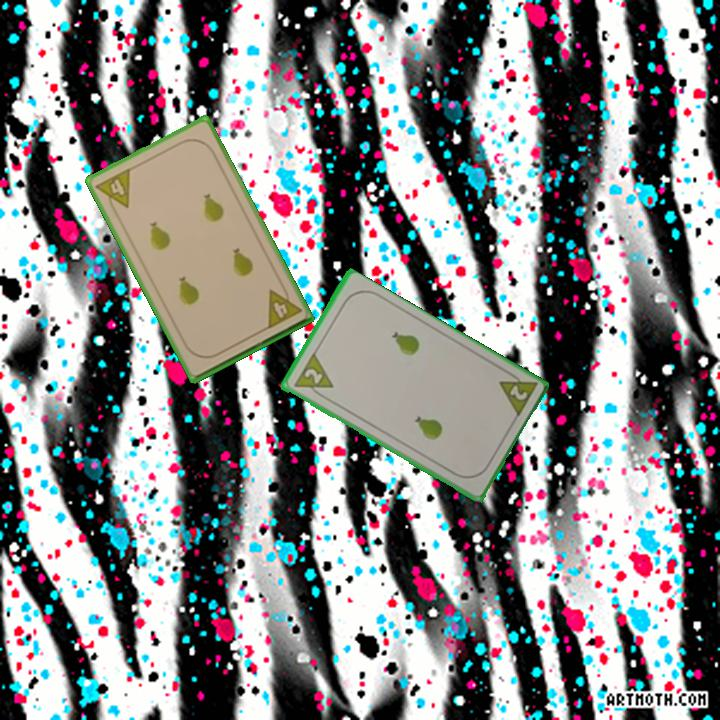2p: (495, 366, 540, 421), (289, 351, 336, 402)
4p: (92, 164, 133, 217), (263, 281, 304, 332)
